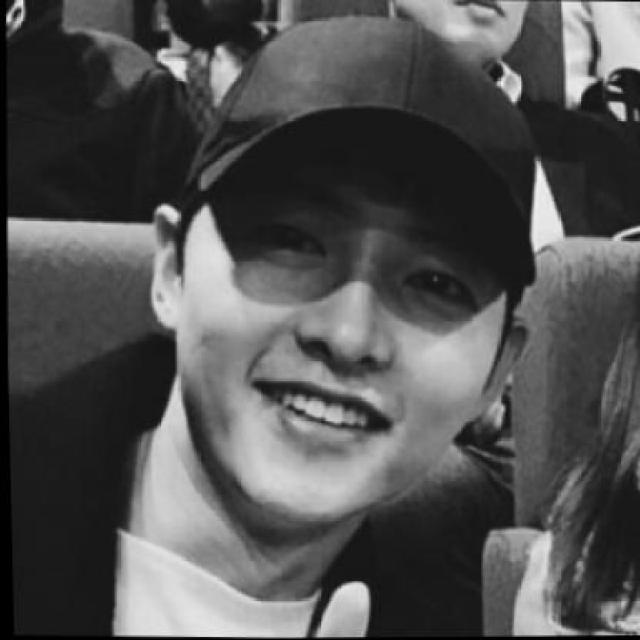hat: (174, 14, 540, 292)
